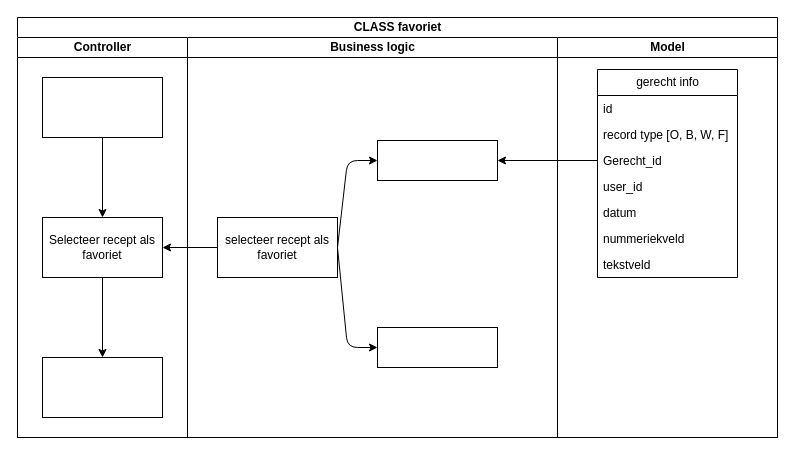
This 795x455 diagram has some shape labels left out. Here are the shapes that lost their labels. From the top down, the centre of each, then its label:
At (102,107): "Initialisatie".
At (437,160): "ophalen gerecht info".
At (437,347): "set gerecht als favoriet".
At (102,387): "Kleur hart emoticon rood".
